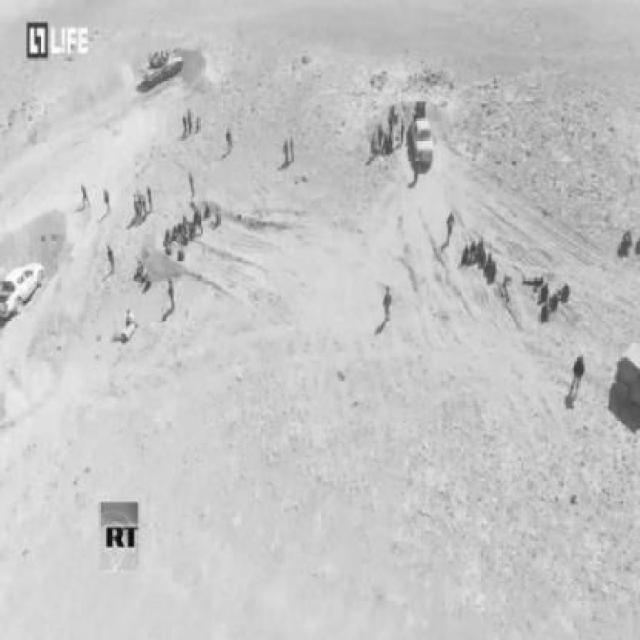Person: (571, 353, 585, 398), (442, 210, 457, 247), (381, 284, 393, 323), (484, 249, 496, 282), (166, 279, 177, 311), (79, 182, 91, 211), (108, 244, 117, 275), (123, 307, 137, 326), (102, 188, 111, 217), (188, 171, 197, 199), (397, 117, 405, 148), (225, 126, 234, 153), (470, 237, 479, 263), (196, 209, 205, 235), (370, 130, 378, 157), (133, 193, 140, 222), (413, 156, 420, 183), (146, 185, 153, 212), (283, 136, 289, 167), (187, 106, 193, 135), (289, 134, 295, 160), (141, 193, 147, 218), (215, 204, 221, 229), (197, 120, 203, 137), (183, 113, 187, 137)
Vehicle: (1, 259, 46, 321), (612, 338, 639, 410), (140, 50, 185, 86), (410, 100, 434, 165)
